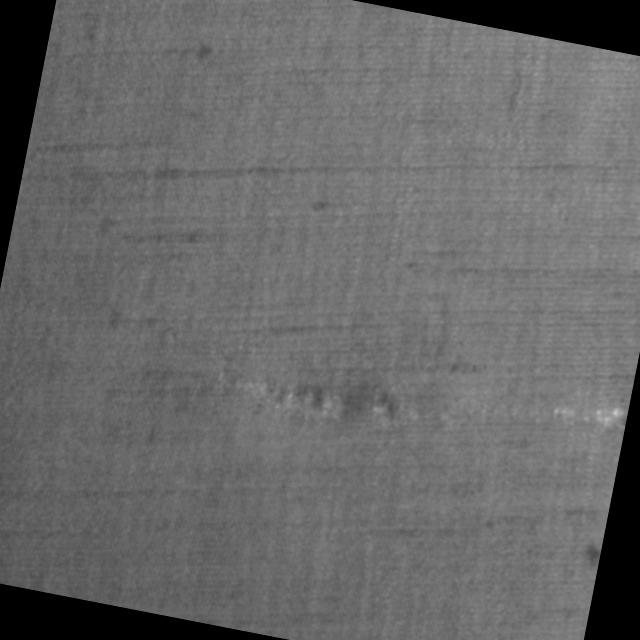thread error: (224, 344, 421, 452)
